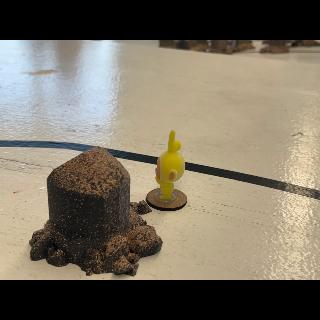teletubby: (155, 130, 185, 200)
